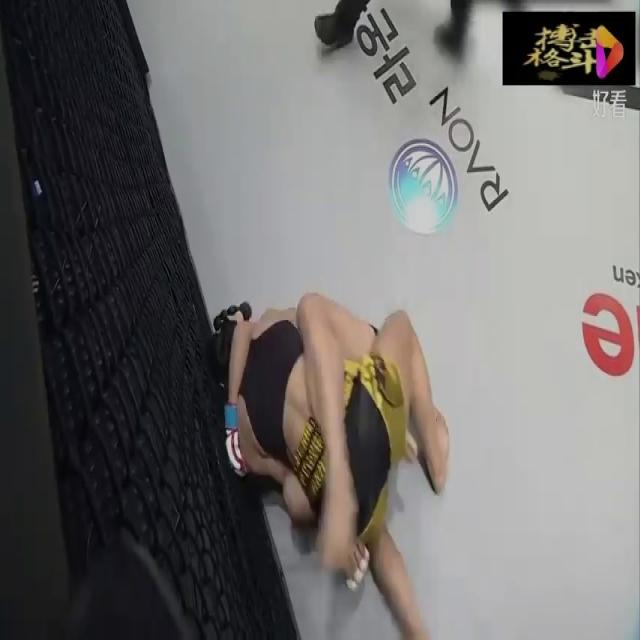fight: (217, 289, 451, 640)
